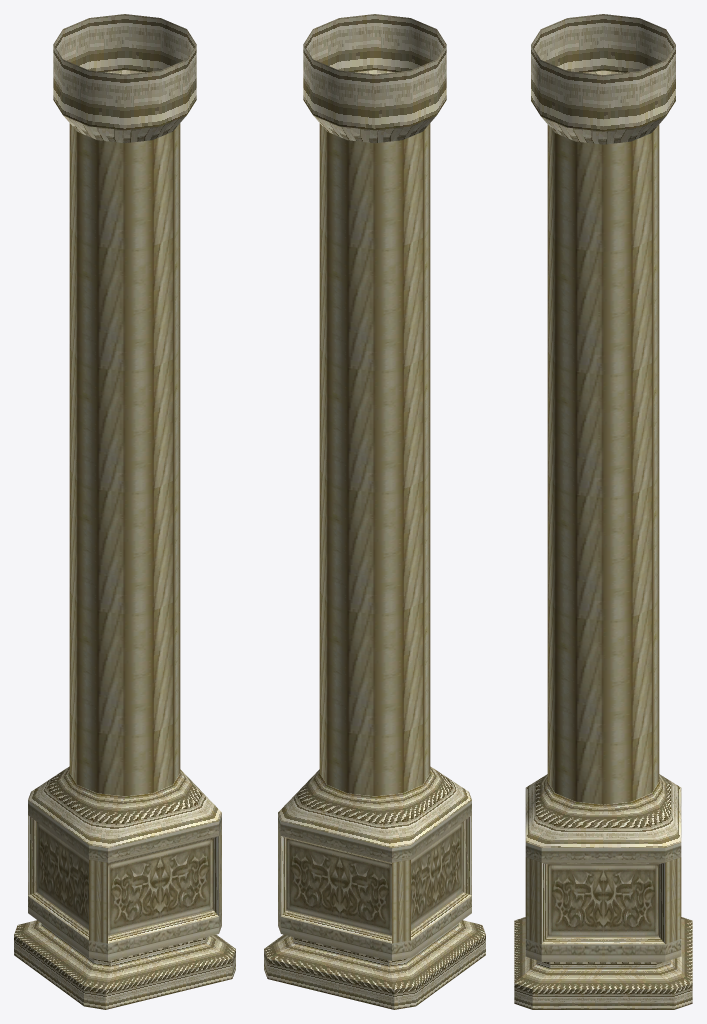
The model's file is lv9_r07_pillar.dae.
3 renders of one model, left to right at view 1: azimuth 30°, elevation 25°; view 2: azimuth 150°, elevation 25°; view 3: azimuth 270°, elevation 25°, orthographic.
Parts seen in each view (by area): view 1: Shape 0, Shape 1, Shape 2; view 2: Shape 0, Shape 1, Shape 2; view 3: Shape 0, Shape 1, Shape 2.
Boxes of the visible parts, left/top/right/bottom form: Shape 0: left=69, top=123, right=221, bottom=943; Shape 1: left=14, top=14, right=235, bottom=1009; Shape 2: left=28, top=800, right=221, bottom=960; Shape 0: left=278, top=123, right=430, bottom=943; Shape 1: left=264, top=14, right=485, bottom=1009; Shape 2: left=278, top=800, right=471, bottom=960; Shape 0: left=525, top=124, right=681, bottom=943; Shape 1: left=514, top=14, right=692, bottom=1009; Shape 2: left=525, top=842, right=681, bottom=961.
Size of the model in its own units: 381 by 2200 by 383.
